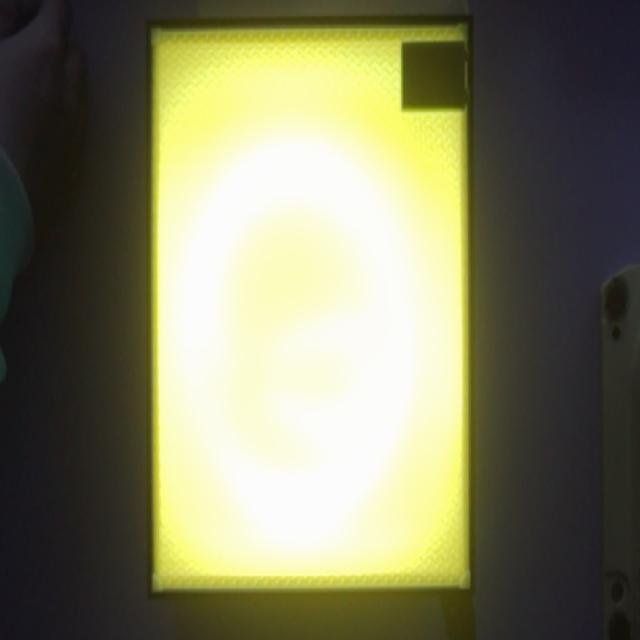bateria: (401, 39, 470, 110)
mesa: (147, 17, 474, 601)
